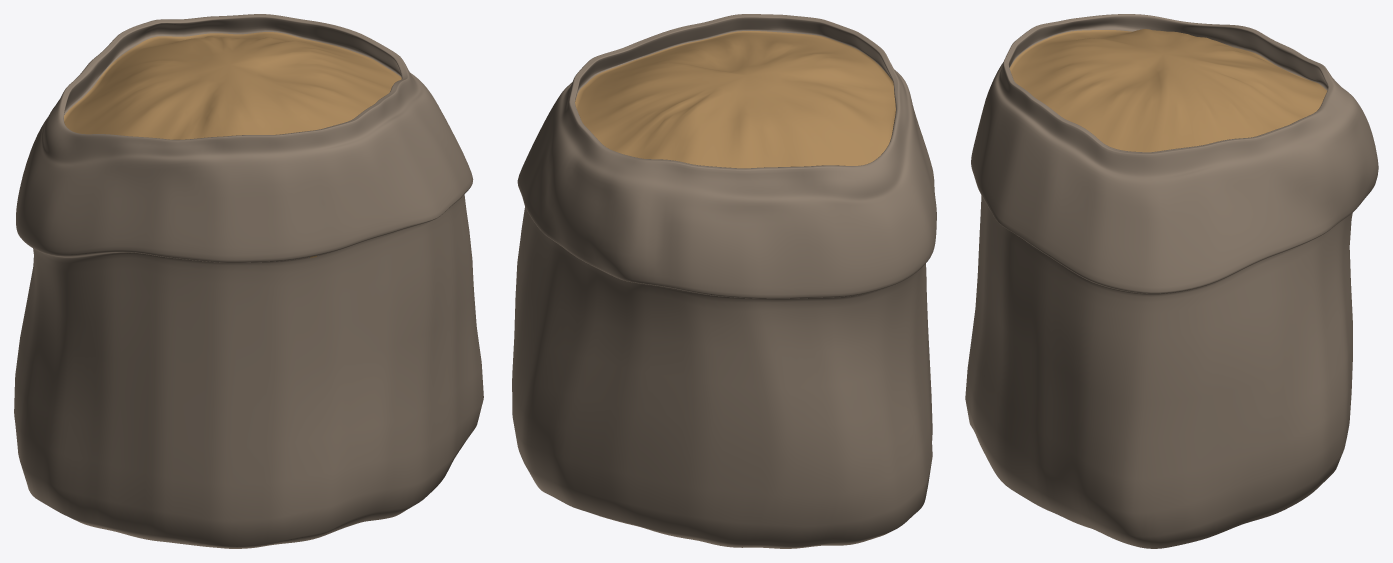
The model's file is WheatGeo.fbx.
3 renders of one model, left to right at view 1: azimuth 30°, elevation 25°; view 2: azimuth 150°, elevation 25°; view 3: azimuth 270°, elevation 25°, orthographic. The views are drawn at different scales.
Parts seen in each view (by area): view 1: wheatgeo; view 2: wheatgeo; view 3: wheatgeo.
Boxes of the visible parts, x1,y1,x2,y2 form: wheatgeo: [14, 14, 483, 548]; wheatgeo: [512, 14, 936, 548]; wheatgeo: [965, 14, 1378, 548].
Size of the model in its own units: 74.98 by 71.63 by 67.05.
